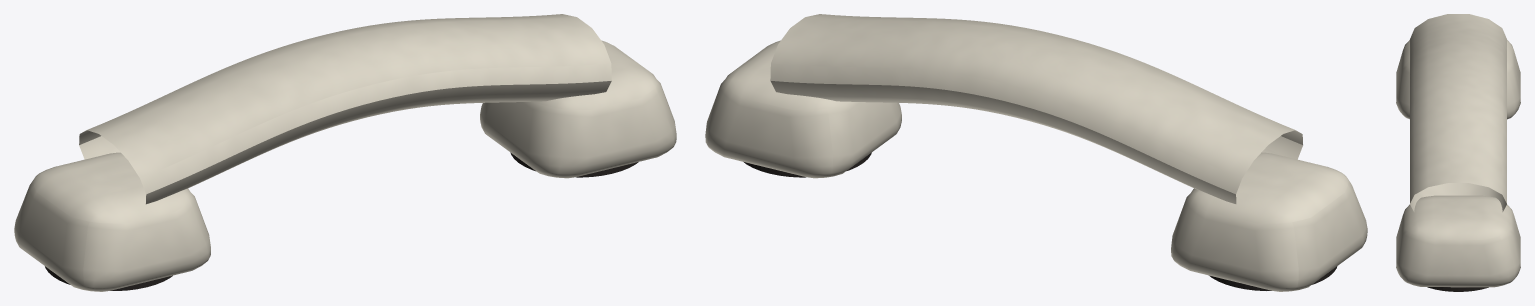
The model's file is phone_handset.glb.
3 renders of one model, left to right at view 1: azimuth 30°, elevation 25°; view 2: azimuth 150°, elevation 25°; view 3: azimuth 270°, elevation 25°, orthographic. The views are drawn at different scales.
Parts seen in each view (by area): view 1: Handset; view 2: Handset; view 3: Handset.
Boxes of the visible parts, box(x1,y1,x2,y2) form: Handset: box(14, 14, 676, 291); Handset: box(705, 14, 1367, 291); Handset: box(1396, 14, 1520, 291).
Size of the model in its own units: 0.2355 by 0.0597 by 0.0576.
Materials: 2 (2 with a texture image).
